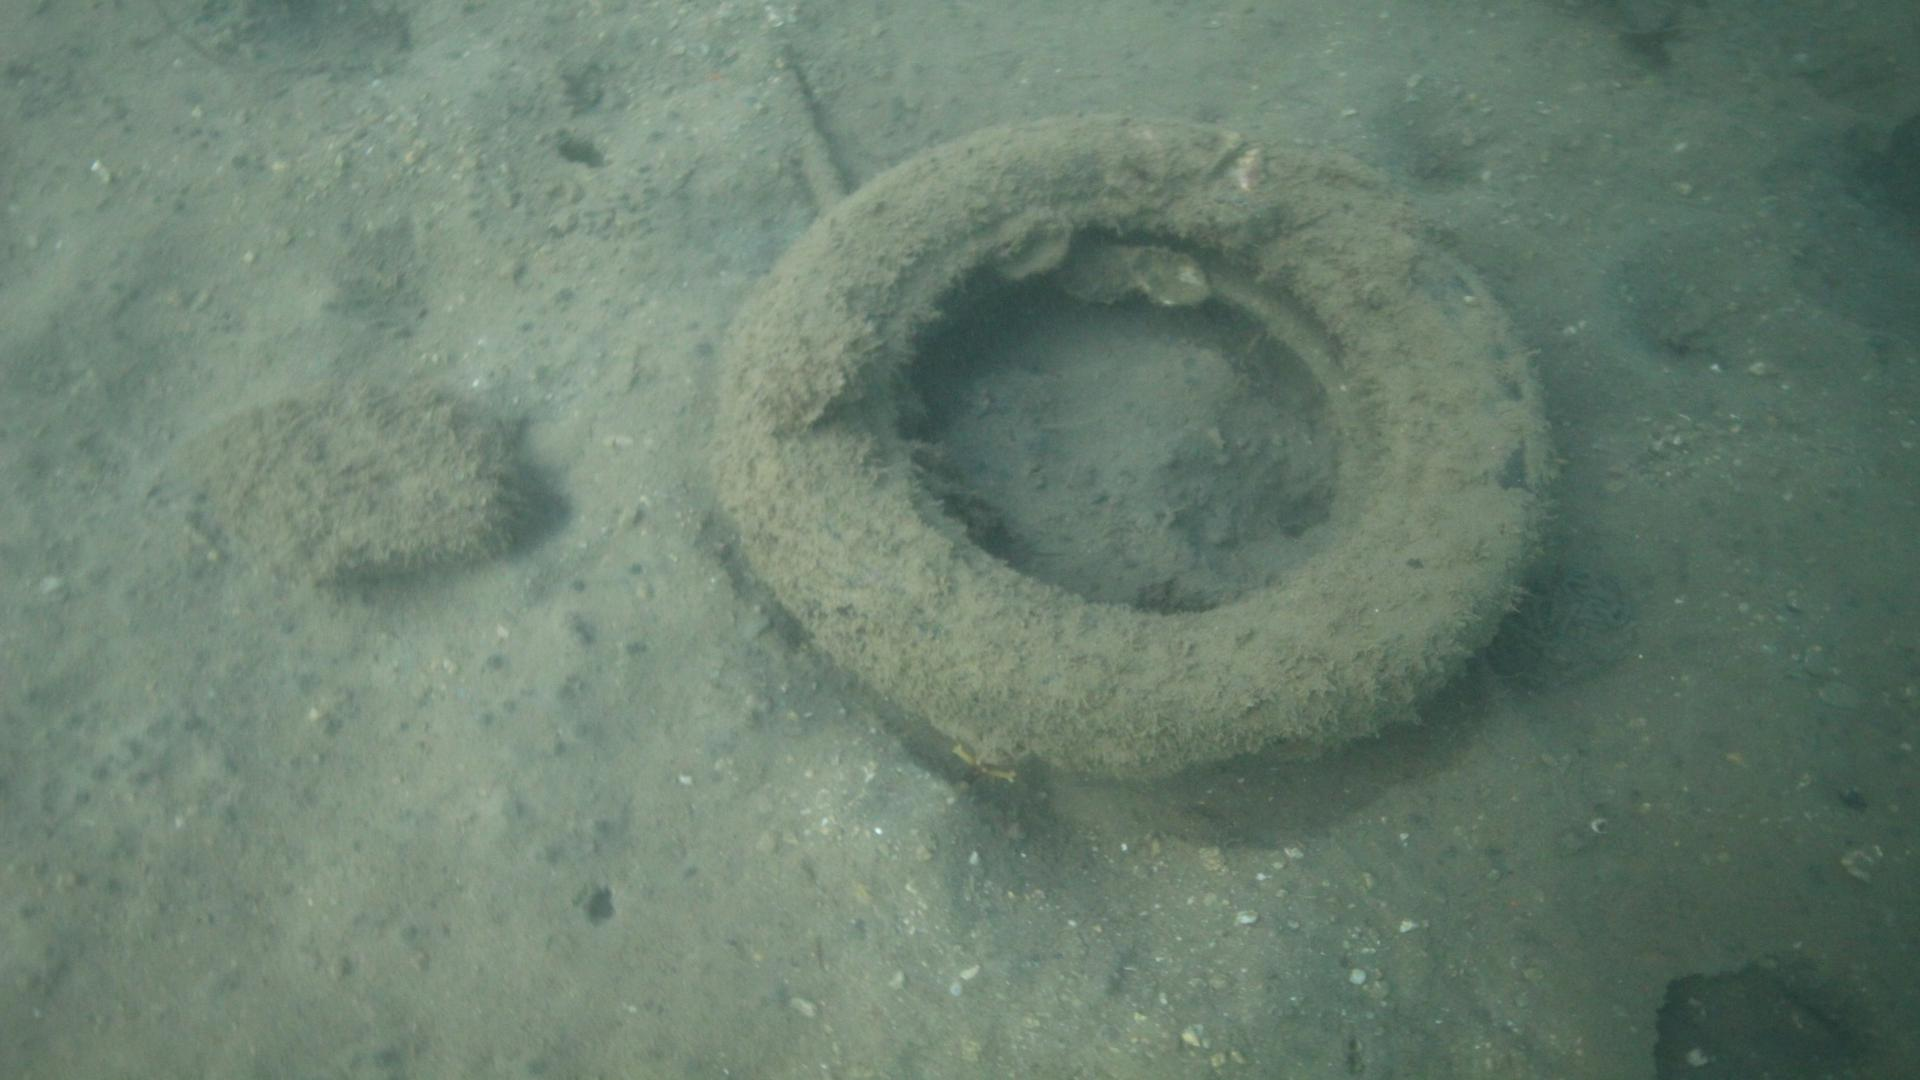tire: (709, 111, 1542, 769)
